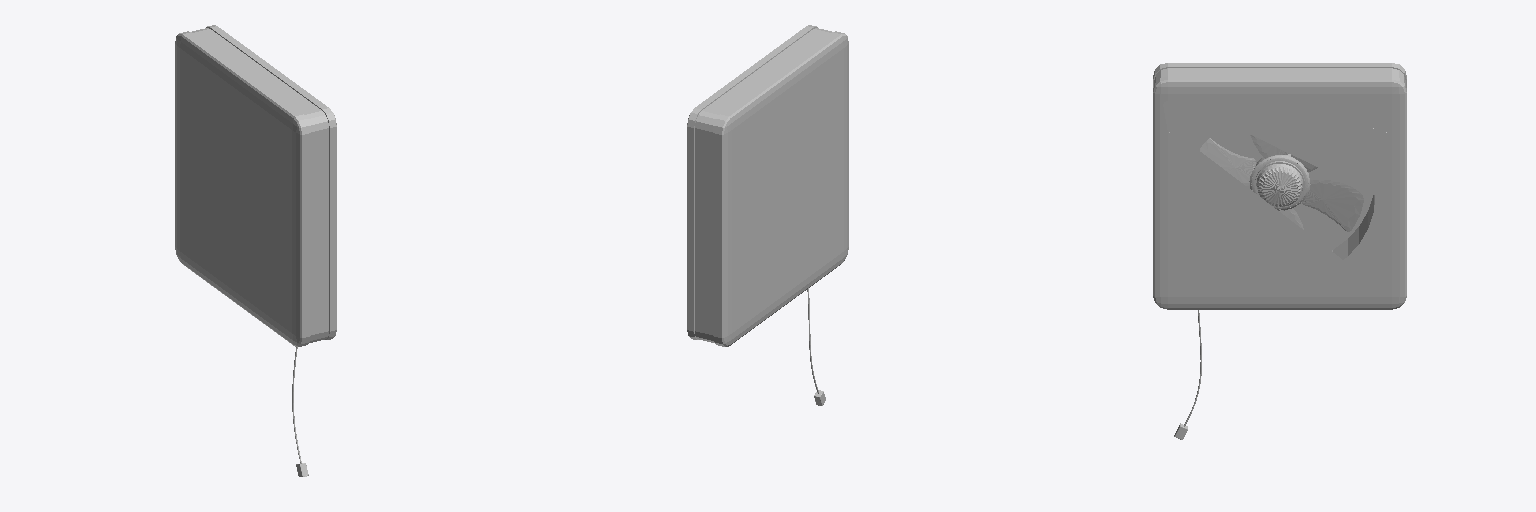
The model's file is uploads_files_2399498_Gaming+Computer+Fan (1).obj.
3 renders of one model, left to right at view 1: azimuth 30°, elevation 25°; view 2: azimuth 150°, elevation 25°; view 3: azimuth 270°, elevation 25°, orthographic.
Visible parts, largest first — view 1: Cube_Cube.001; view 2: Cube_Cube.001; view 3: Cube_Cube.001, Cylinder_Cylinder.001, Plane.
Boxes of the visible parts, <box> form: Cube_Cube.001: <box>175,25,336,346</box>; Cube_Cube.001: <box>687,25,848,346</box>; Cube_Cube.001: <box>1153,63,1406,309</box>; Cylinder_Cylinder.001: <box>1200,135,1363,231</box>; Plane: <box>1199,104,1377,250</box>.
Bounding box in the file's own units: 1.06 × 9.54 × 5.93.